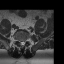CCS_stenosis: (22, 39, 23, 46)
LFS_stenosis: (25, 38, 27, 44)
LLS_normal: (23, 38, 25, 46)
RFS_severe_stenosis: (18, 38, 20, 44)
RLS_normal: (20, 39, 22, 45)
